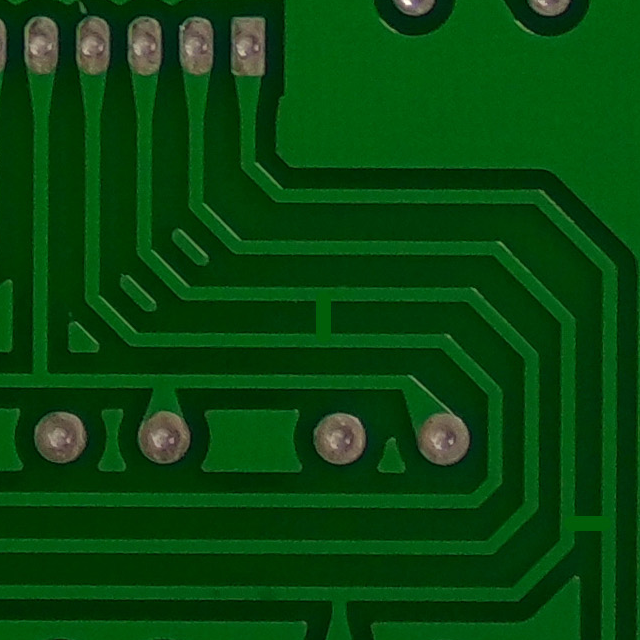short: (290, 279, 350, 361), (552, 497, 621, 541)
